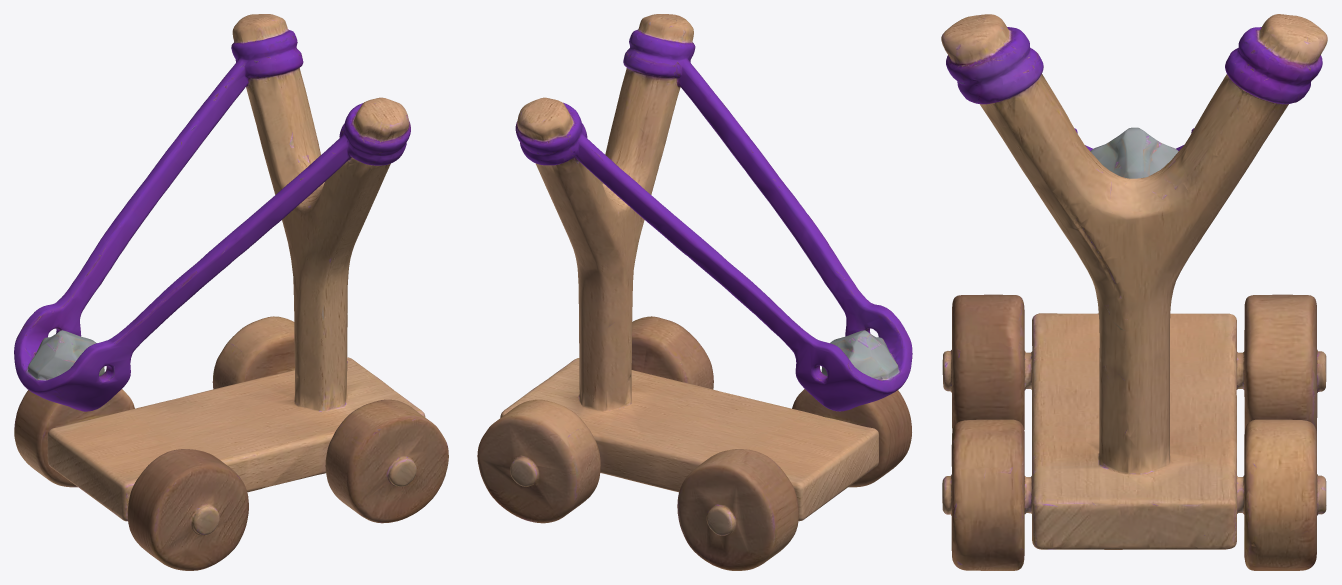
3 renders of one model, left to right at view 1: azimuth 30°, elevation 25°; view 2: azimuth 150°, elevation 25°; view 3: azimuth 270°, elevation 25°, orthographic. The views are drawn at different scales.
Parts seen in each view (by area): view 1: Mesh_0; view 2: Mesh_0; view 3: Mesh_0.
Part boxes in pixels (x1,y1,x2,y2): Mesh_0: [14, 14, 448, 570]; Mesh_0: [477, 14, 912, 570]; Mesh_0: [941, 14, 1327, 570].
Size of the model in its own units: 1.74 by 1.91 by 1.25.
1 material, 1 textured.
